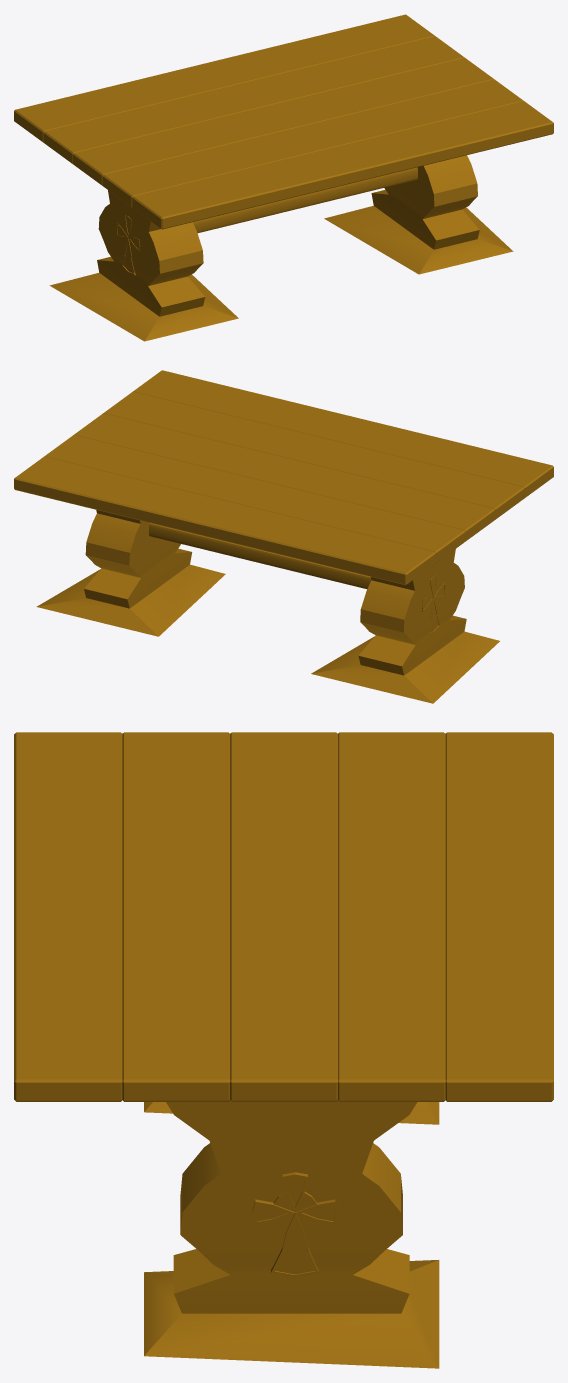
File: TableNew.fbx
3 views of the same model, one above another, from view 1: azimuth 30°, elevation 25°; view 2: azimuth 150°, elevation 25°; view 3: azimuth 270°, elevation 25° (orthographic). The views are drawn at different scales.
Visible parts, largest first — view 1: Tabletop5, tableleg1, Tabletop4, Tabletop3, Tabletop1, Tabletop2, tableleg, crossPiece; view 2: Tabletop1, tableleg1, tableleg, Tabletop2, Tabletop3, Tabletop5, Tabletop4, crossPiece; view 3: tableleg, Tabletop5, Tabletop1, Tabletop3, Tabletop4, Tabletop2, tableDetail1, tableleg1.
Boxes of the visible parts, left/top/right/bottom form: Tabletop5: left=132, top=101, right=553, bottom=229; tableleg1: left=49, top=190, right=238, bottom=341; Tabletop4: left=102, top=79, right=523, bottom=207; Tabletop3: left=73, top=58, right=493, bottom=185; Tabletop1: left=14, top=14, right=434, bottom=142; Tabletop2: left=43, top=36, right=464, bottom=163; tableleg: left=324, top=155, right=513, bottom=274; crossPiece: left=193, top=167, right=417, bottom=232; Tabletop1: left=14, top=457, right=435, bottom=585; tableleg1: left=311, top=549, right=499, bottom=703; tableleg: left=36, top=510, right=225, bottom=636; Tabletop2: left=44, top=435, right=465, bottom=562; Tabletop3: left=74, top=413, right=494, bottom=541; Tabletop5: left=133, top=370, right=553, bottom=498; Tabletop4: left=103, top=392, right=524, bottom=519; crossPiece: left=149, top=523, right=371, bottom=588; tableleg: left=144, top=1100, right=439, bottom=1368; Tabletop5: left=14, top=732, right=122, bottom=1101; Tabletop1: left=445, top=732, right=553, bottom=1101; Tabletop3: left=230, top=732, right=337, bottom=1101; Tabletop4: left=122, top=732, right=229, bottom=1101; Tabletop2: left=338, top=732, right=445, bottom=1101; tableDetail1: left=252, top=1172, right=337, bottom=1277; tableleg1: left=144, top=1102, right=439, bottom=1124.
Size of the model in its own units: 9.21 by 3.38 by 5.89.
